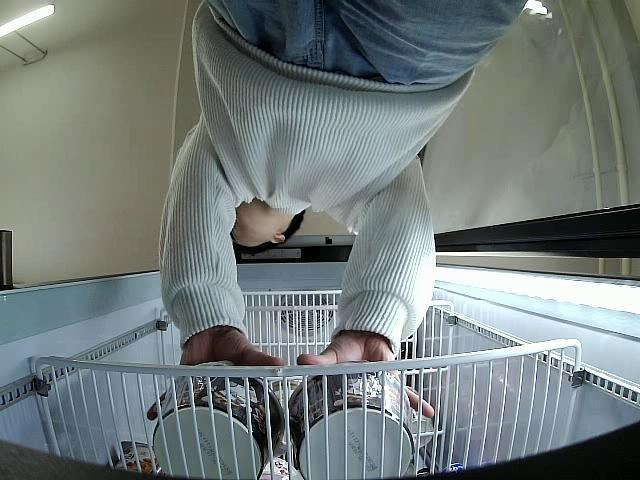07_buldak_L: (286, 357, 418, 480), (152, 361, 283, 480)
